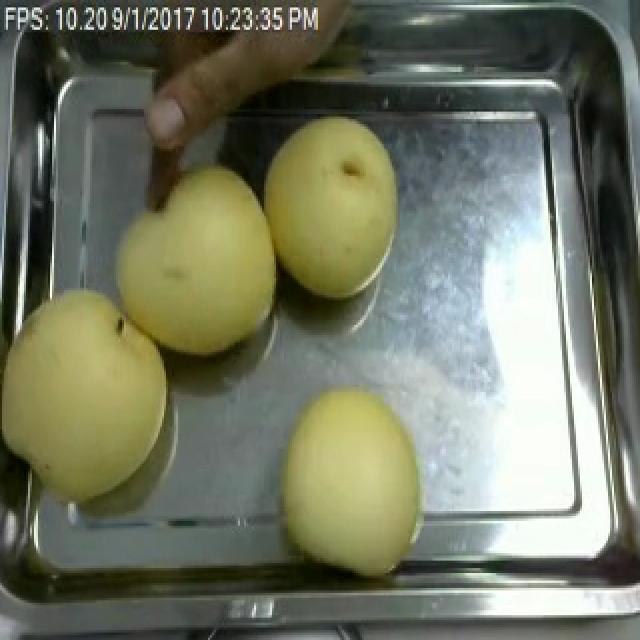Fruit: (0, 273, 180, 513), (104, 154, 290, 367), (266, 370, 436, 586), (252, 111, 412, 308)
